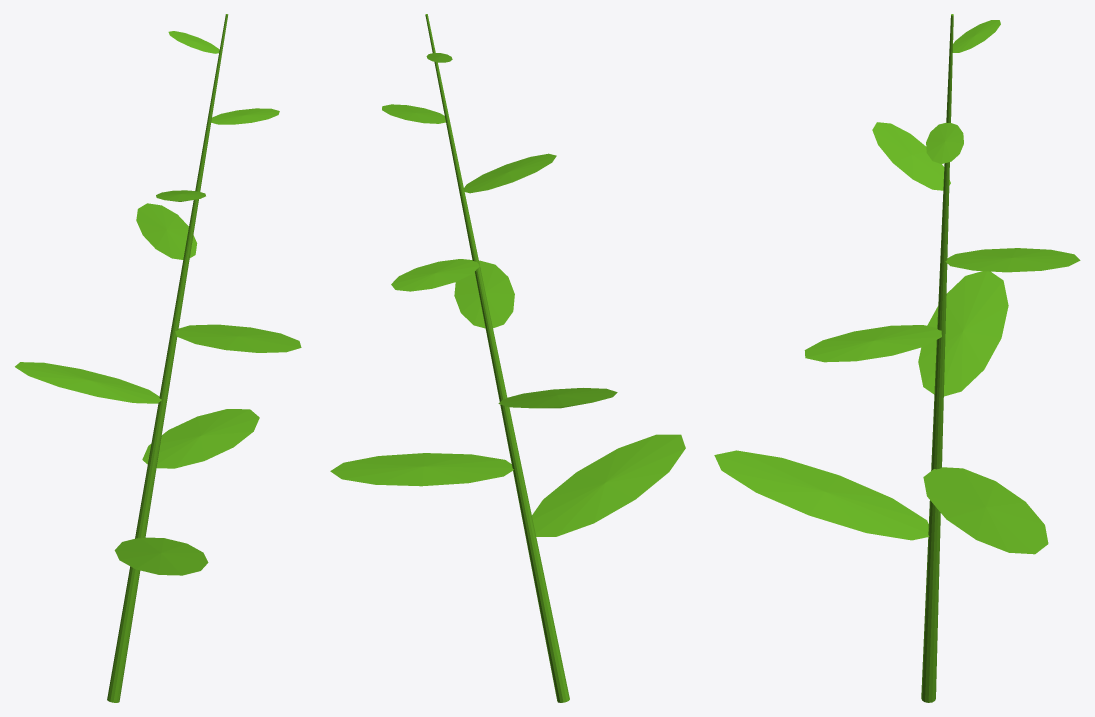
The picture shows the model from 3 angles, left to right: view 1: azimuth 30°, elevation 25°; view 2: azimuth 150°, elevation 25°; view 3: azimuth 270°, elevation 25°; orthographic projection. The views are drawn at different scales.
Visible parts, largest first — view 1: tree; view 2: tree; view 3: tree.
Boxes of the visible parts, <box> form: tree: <box>15,14,301,702</box>; tree: <box>330,14,685,702</box>; tree: <box>714,14,1080,702</box>.
Size of the model in its own units: 0.1447 by 0.1541 by 0.3507.
